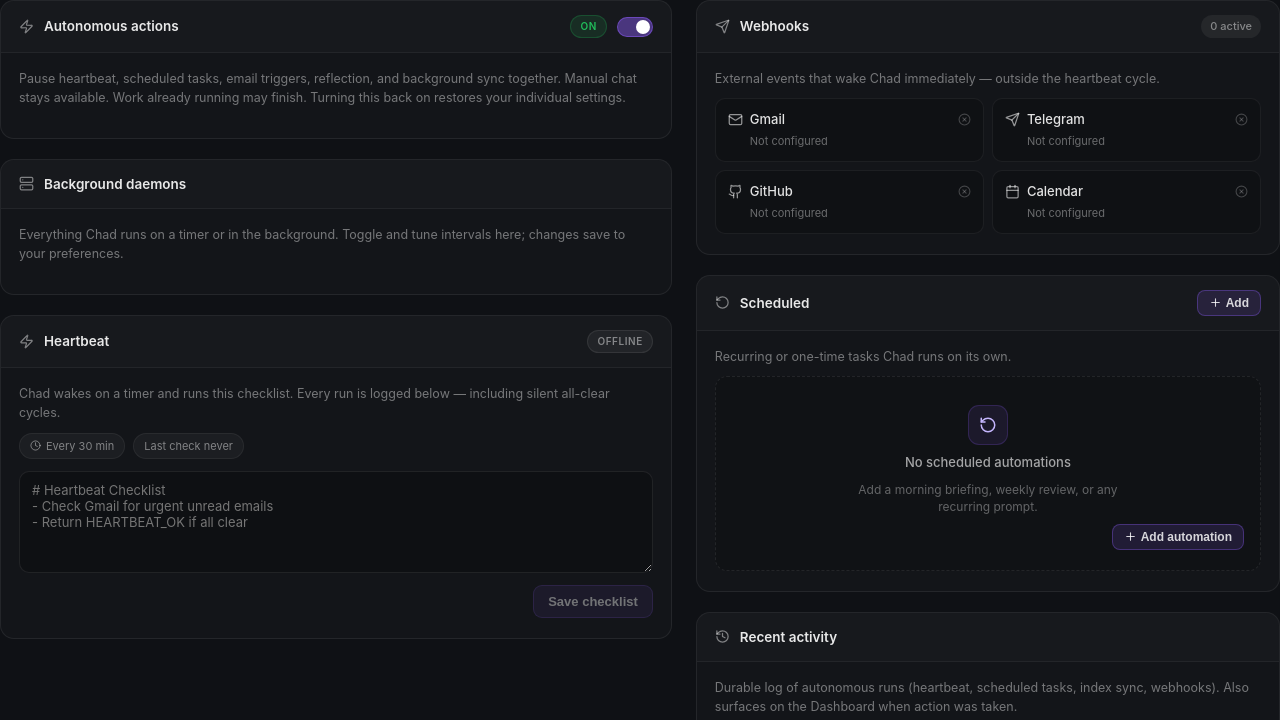
Test: keeps the prior state and shows a failed save
Click the switch named "Autonomous actions".
click(635, 26)  # box [617,16,653,36]
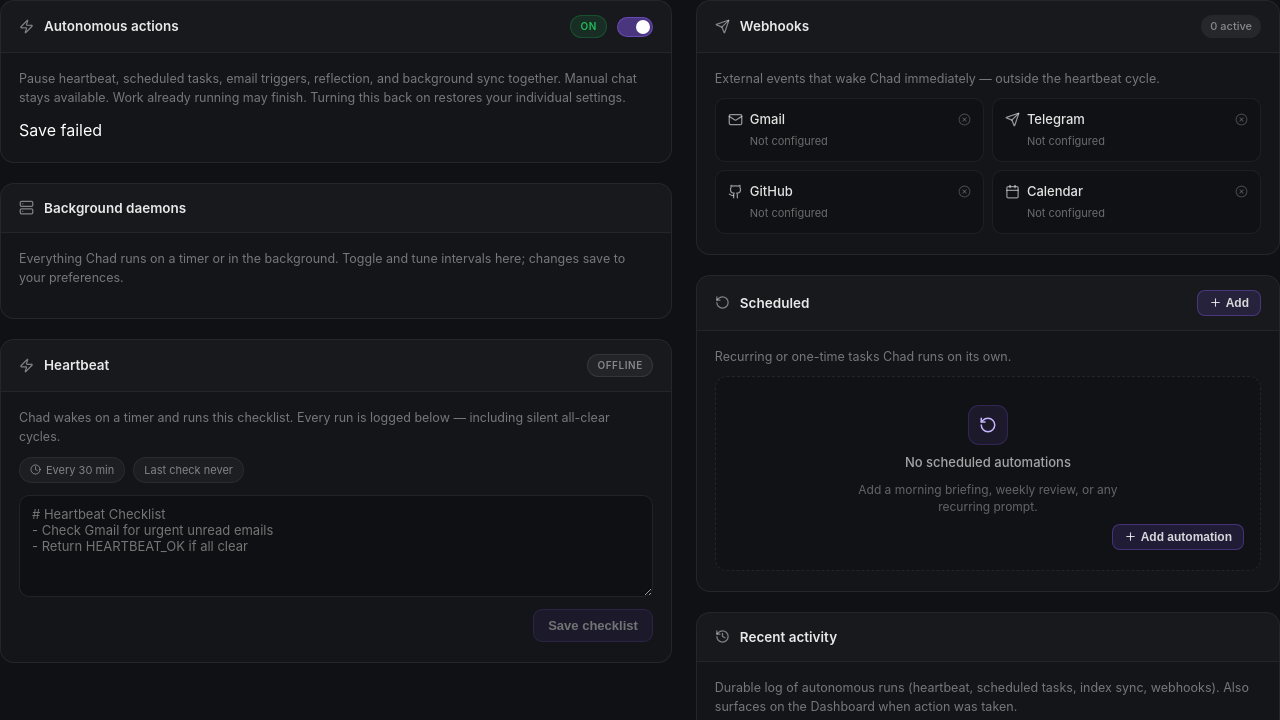
expect the message reads "Save failed": met, box [19,120,102,140]
